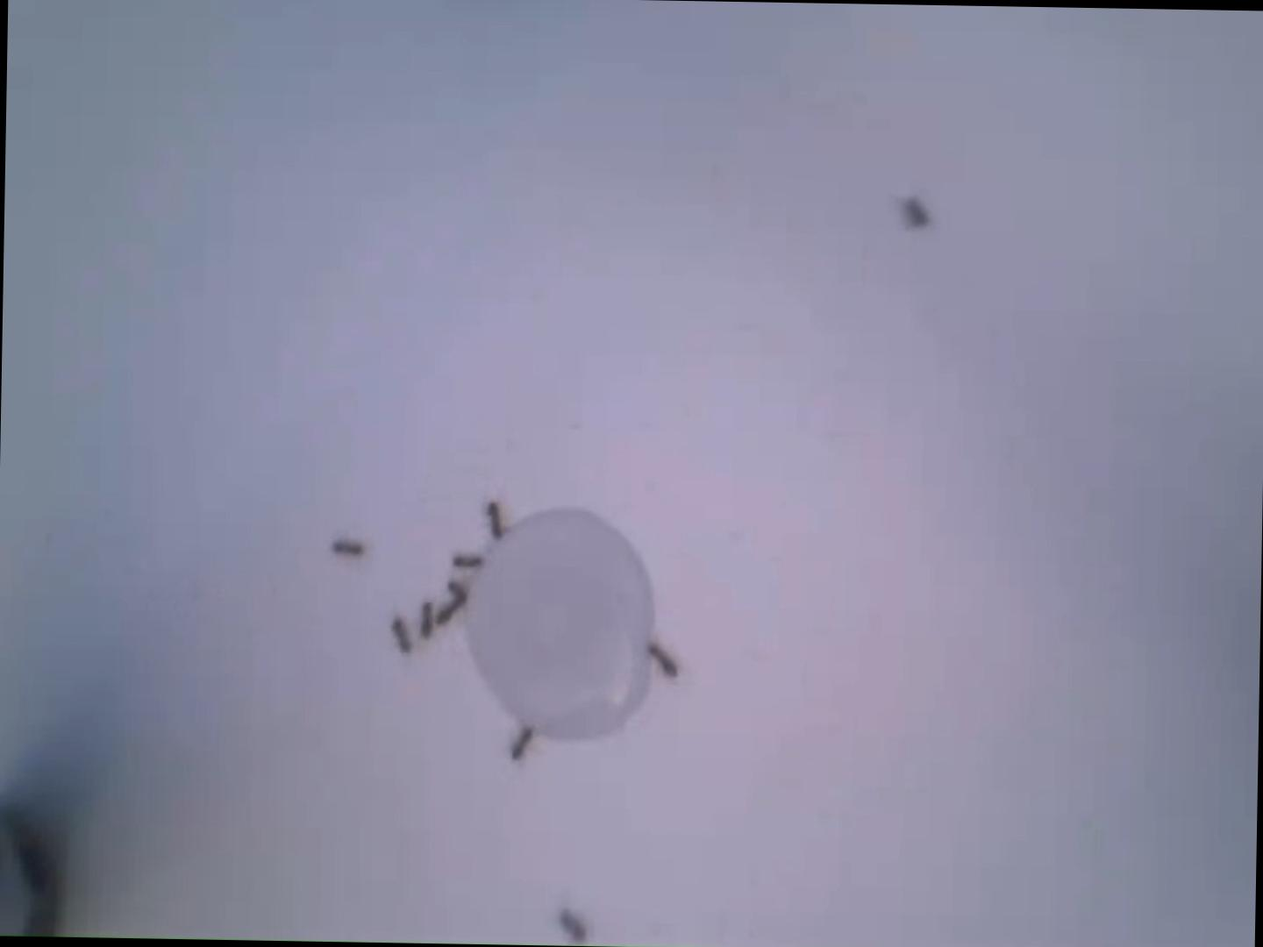Ant: (649, 641, 681, 678), (560, 911, 591, 944), (433, 598, 464, 630), (903, 195, 933, 228), (510, 725, 536, 761), (392, 616, 414, 654), (333, 536, 367, 558), (446, 576, 473, 603), (488, 502, 508, 538), (453, 552, 487, 573), (418, 602, 436, 641)
